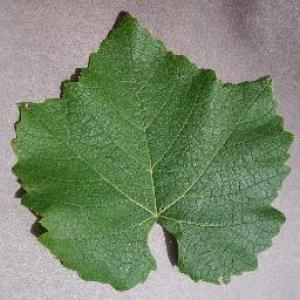Folha: (10, 9, 294, 292)
